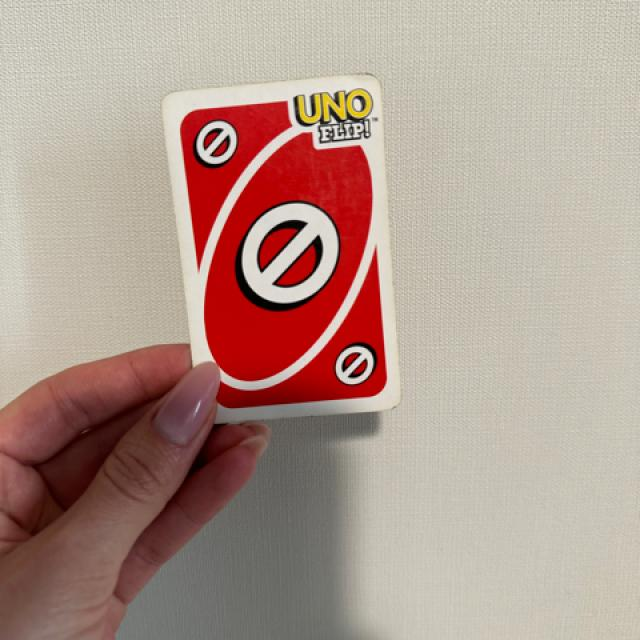lredskip-20: (180, 103, 262, 189)
